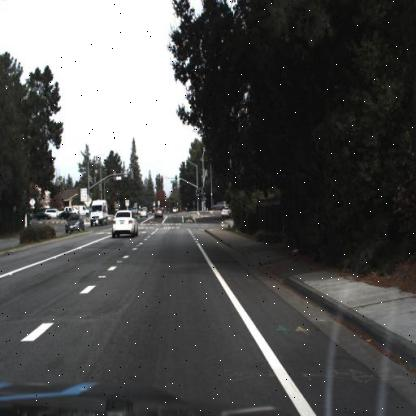car: (86, 193, 110, 234), (112, 207, 138, 240), (64, 212, 85, 236), (63, 215, 88, 233), (57, 210, 74, 224), (59, 205, 77, 217), (153, 205, 165, 221), (48, 205, 62, 218), (138, 206, 149, 219)
trafficLight-Green: (172, 172, 180, 184), (195, 188, 201, 202), (202, 186, 208, 198)
trafficLight-Red: (159, 171, 165, 187)
truck: (88, 196, 107, 228)
